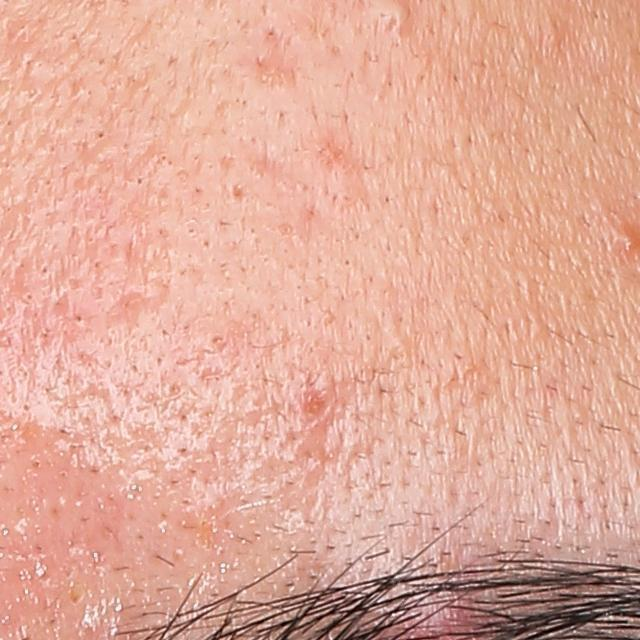atrophic_scar: (247, 147, 322, 197), (101, 286, 167, 331), (241, 47, 292, 90)
comedo: (206, 331, 228, 348)
